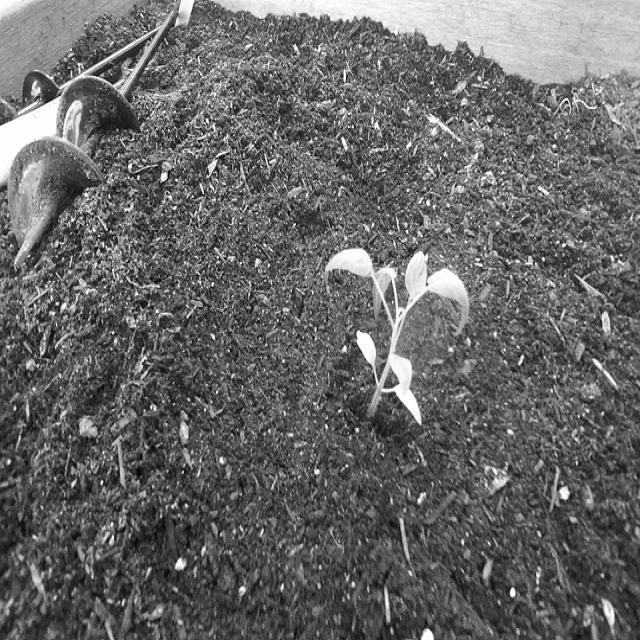Healthy: (322, 238, 475, 441)
